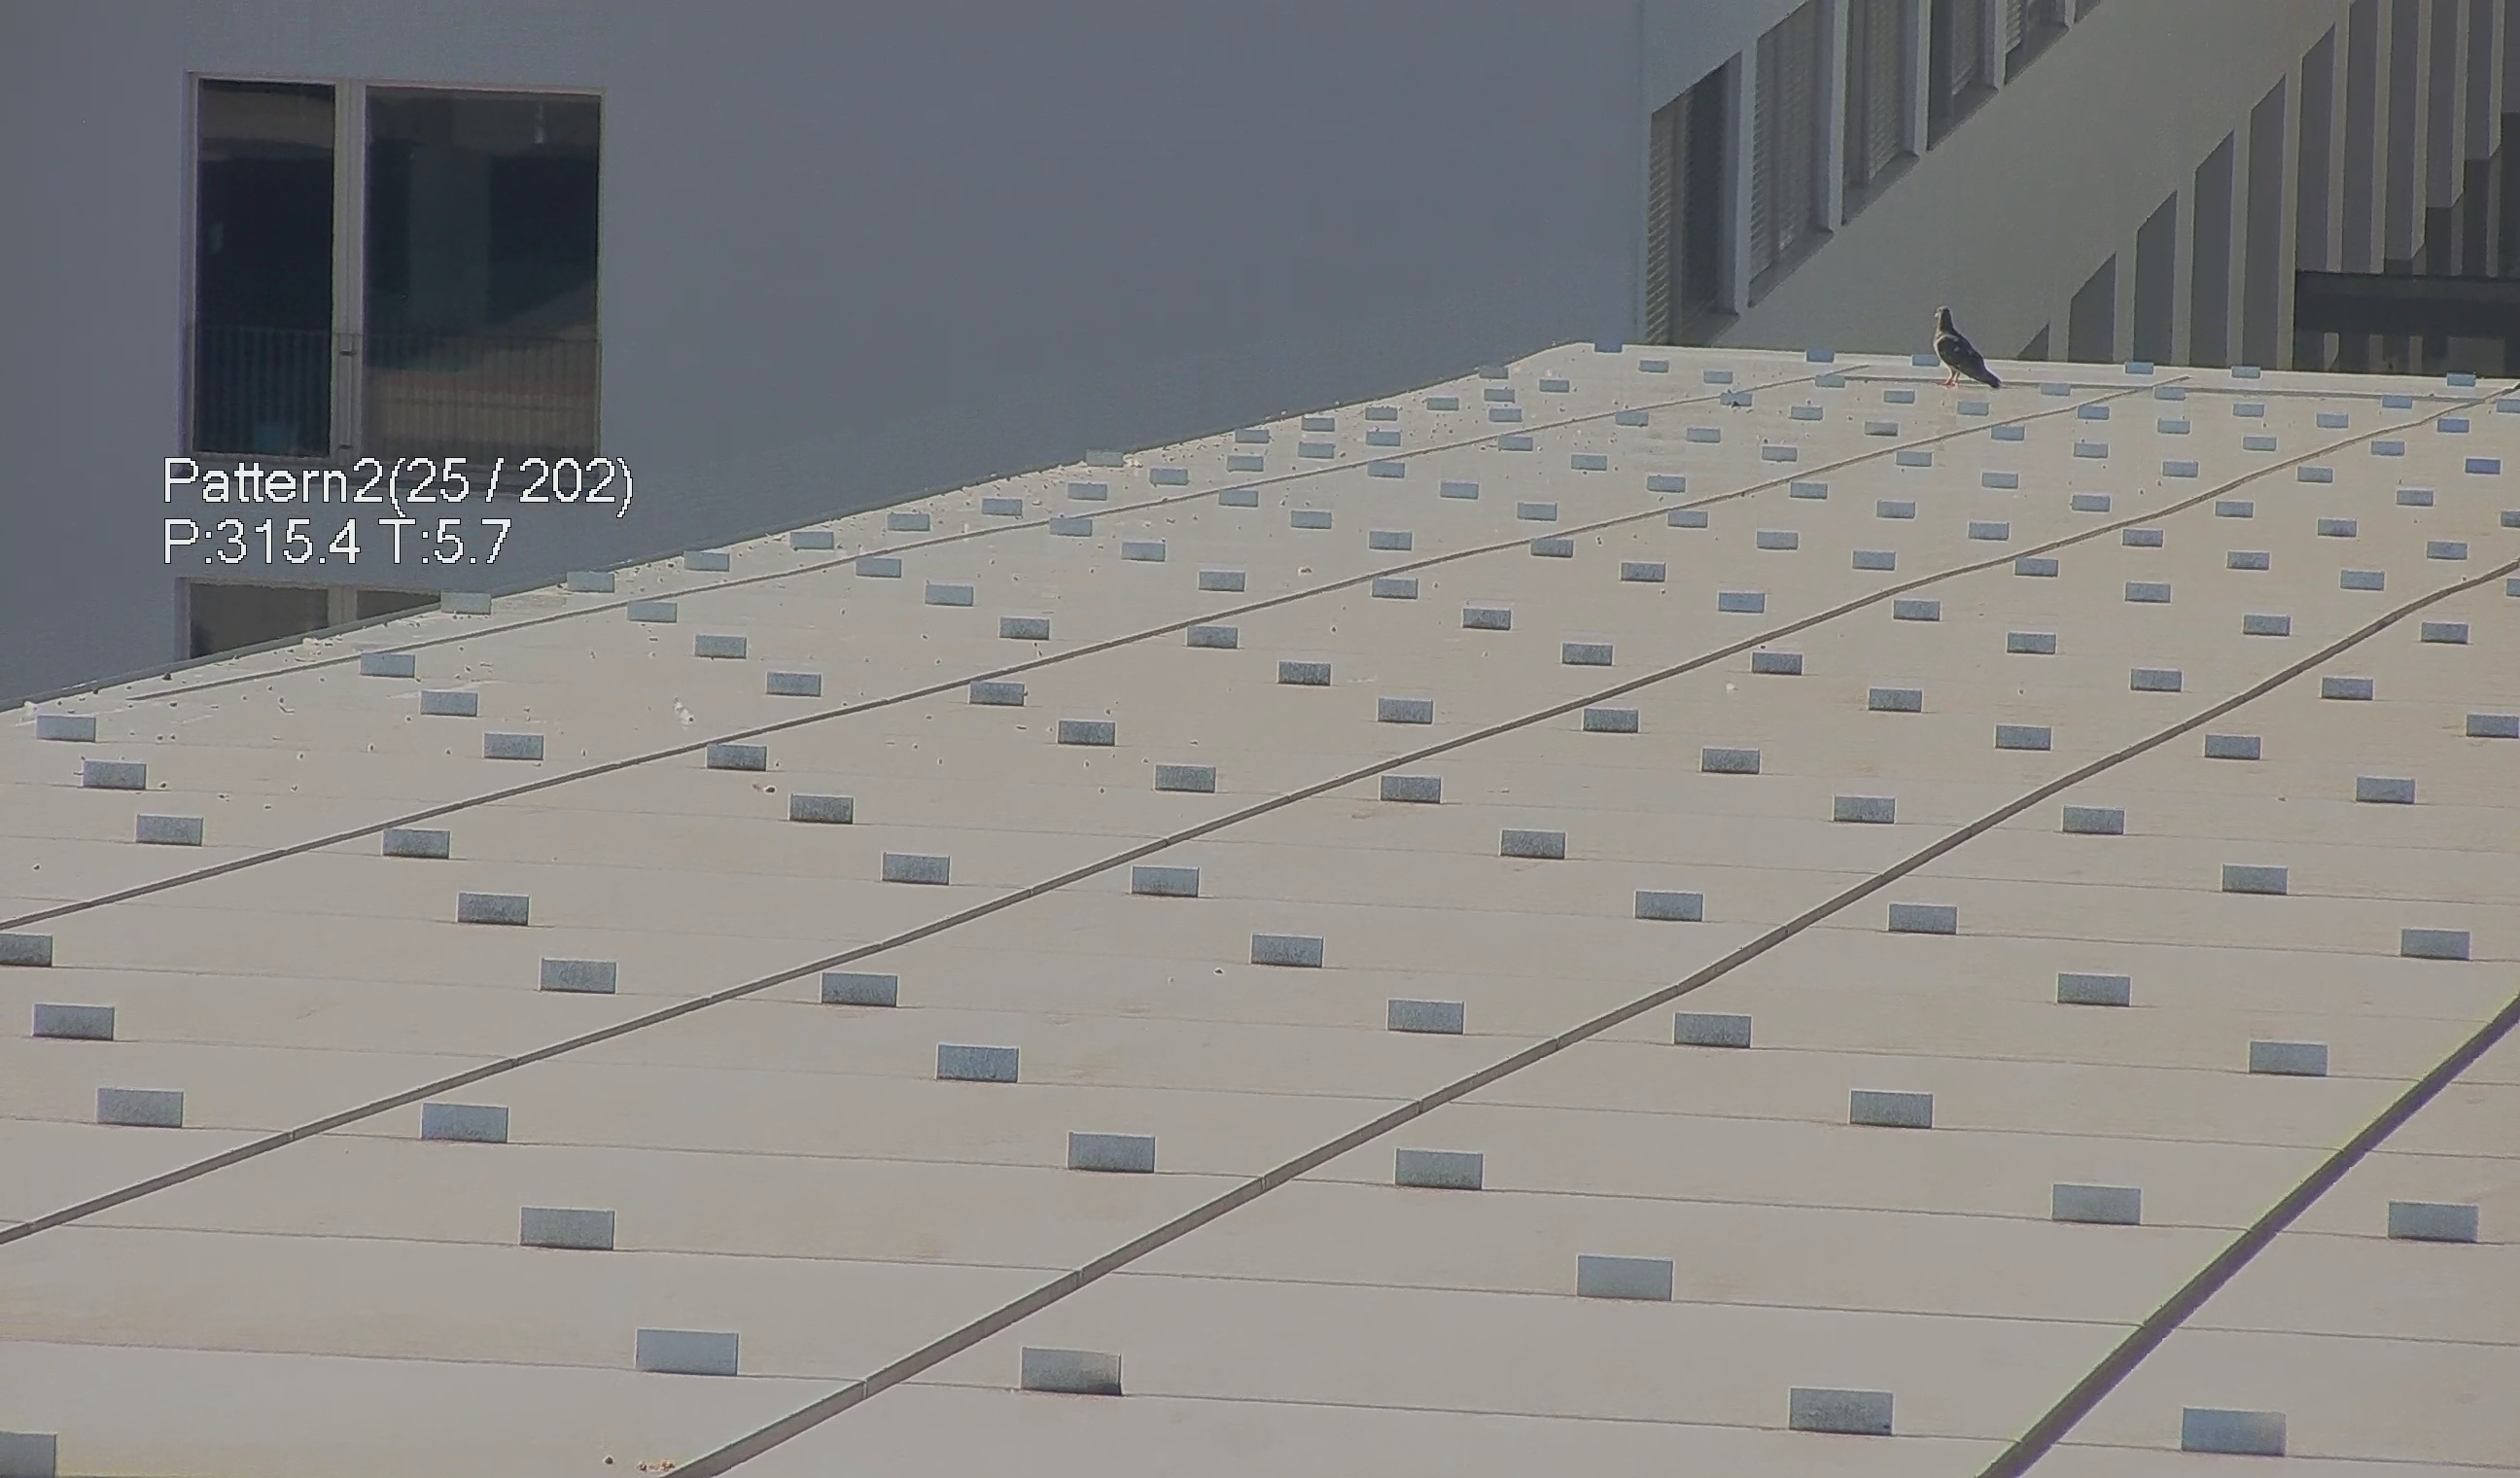Pigeon: (1927, 297, 2008, 401)
